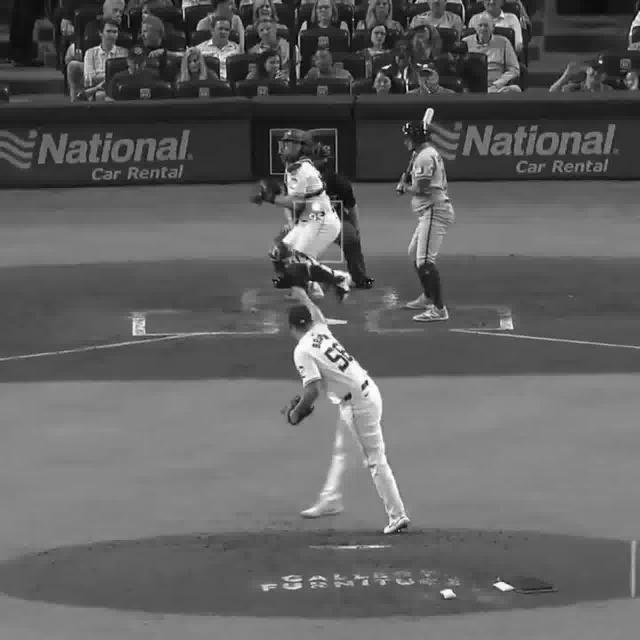base: (325, 314, 348, 326)
baseball_glove: (247, 171, 281, 206), (285, 399, 312, 428)
bat: (398, 105, 440, 194)
shoe: (298, 500, 346, 522), (412, 308, 446, 323), (339, 272, 356, 302), (406, 295, 434, 307)
